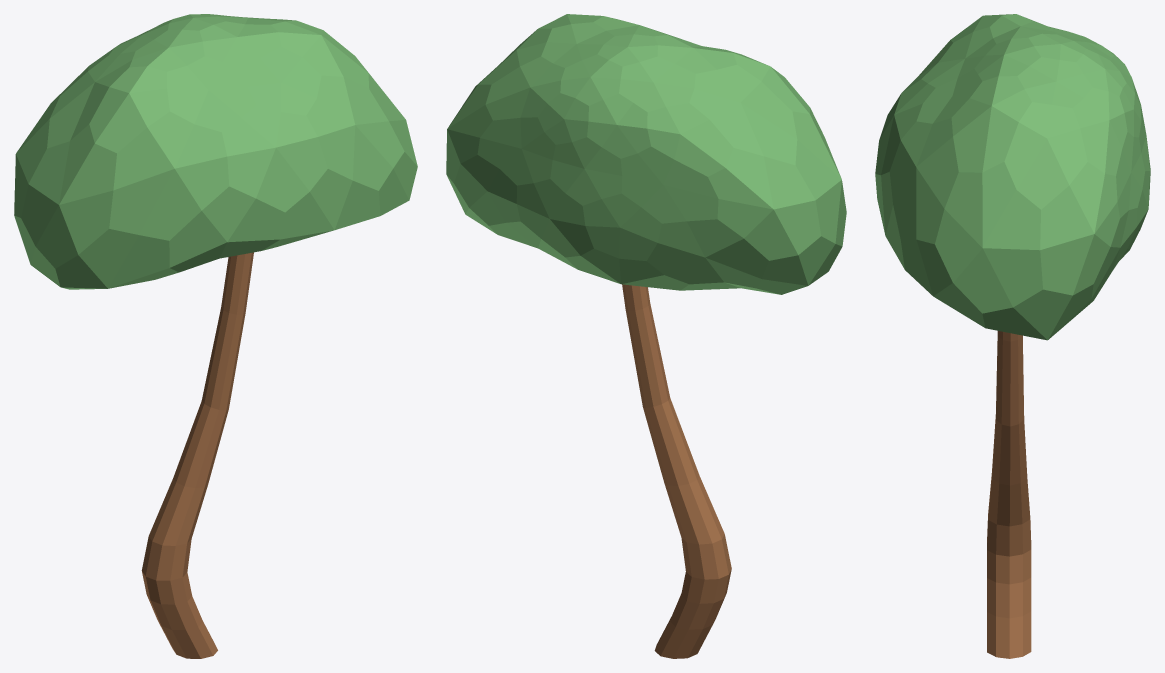
The model's file is Tree1.glb.
3 views of the same model, side by side, from view 1: azimuth 30°, elevation 25°; view 2: azimuth 150°, elevation 25°; view 3: azimuth 270°, elevation 25° (orthographic).
Visible parts, largest first — view 1: Tree1; view 2: Tree1; view 3: Tree1.
Part boxes in pixels (box(x1,y1,x2,y2)): Tree1: box(14, 14, 417, 658); Tree1: box(446, 14, 846, 658); Tree1: box(875, 14, 1150, 658).
Bounding box in the file's own units: 3.3 × 5.31 × 2.14.
